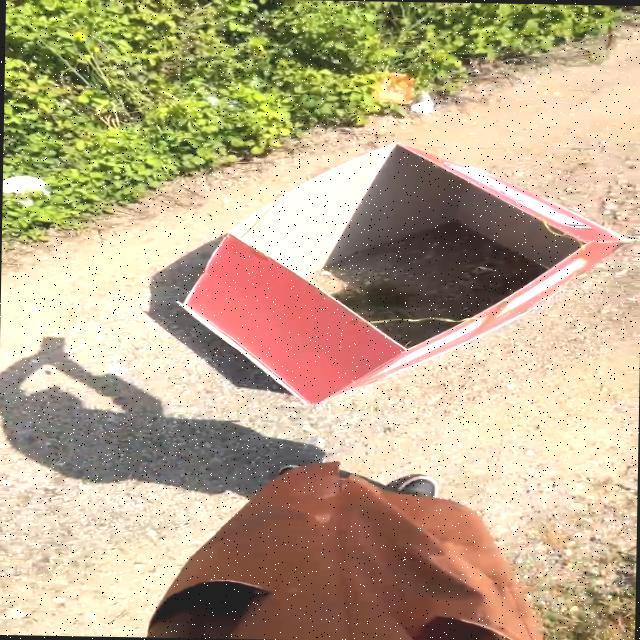red_car: (149, 103, 640, 417)
